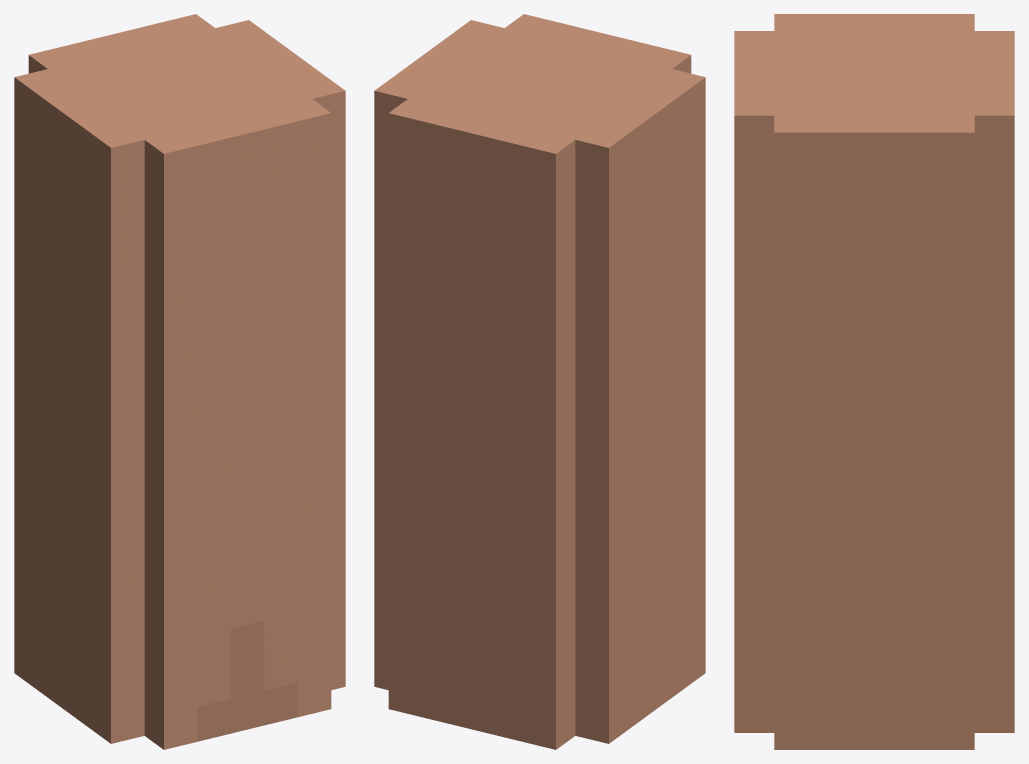
The model's file is Player0-5.obj.
3 views of the same model, side by side, from view 1: azimuth 30°, elevation 25°; view 2: azimuth 150°, elevation 25°; view 3: azimuth 270°, elevation 25° (orthographic). The views are drawn at different scales.
Bounding box in the file's own units: 0.7 × 1.7 × 0.7.
Materials: 1 (1 with a texture image).
